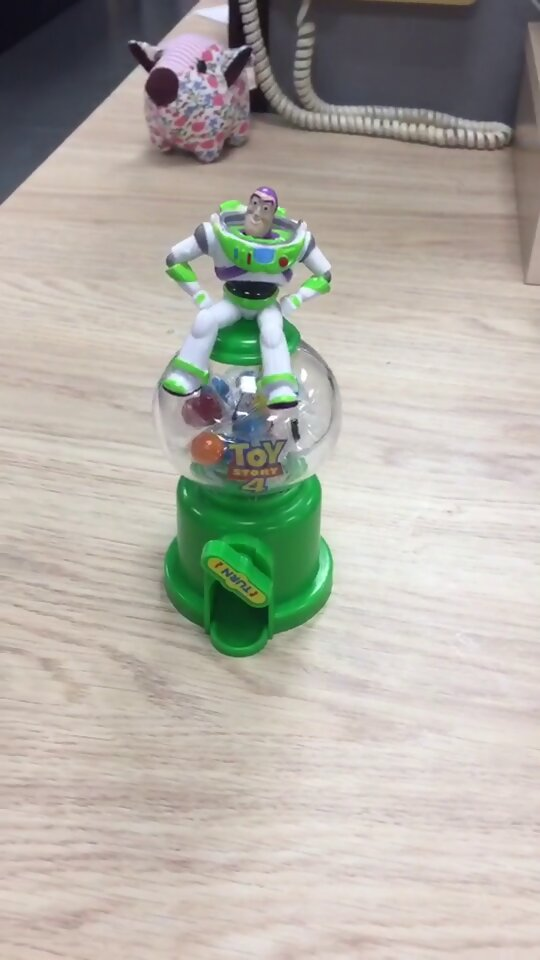buzz: (144, 180, 343, 661)
